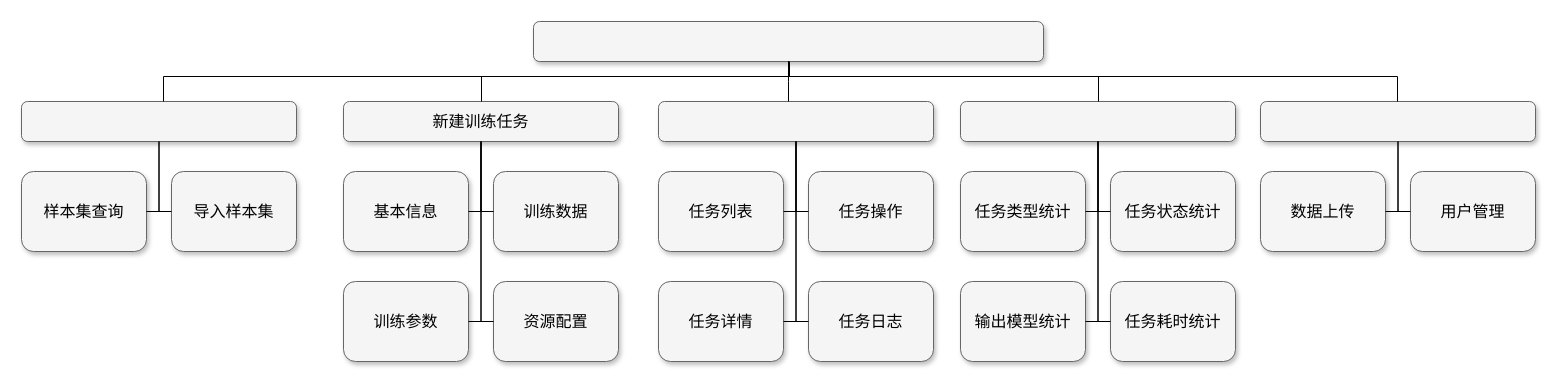
The diagram is 1559 pixels wide and 386 high, and some of its shapes have lost their labels. Here are the shapes that lost their labels. From the top down, the centre of each, then its label:
At point 789,42: "模型训练系统".
At point 159,122: "训练样本集".
At point 797,122: "训练任务监控".
At point 1099,122: "任务统计".
At point 1399,122: "系统管理".
